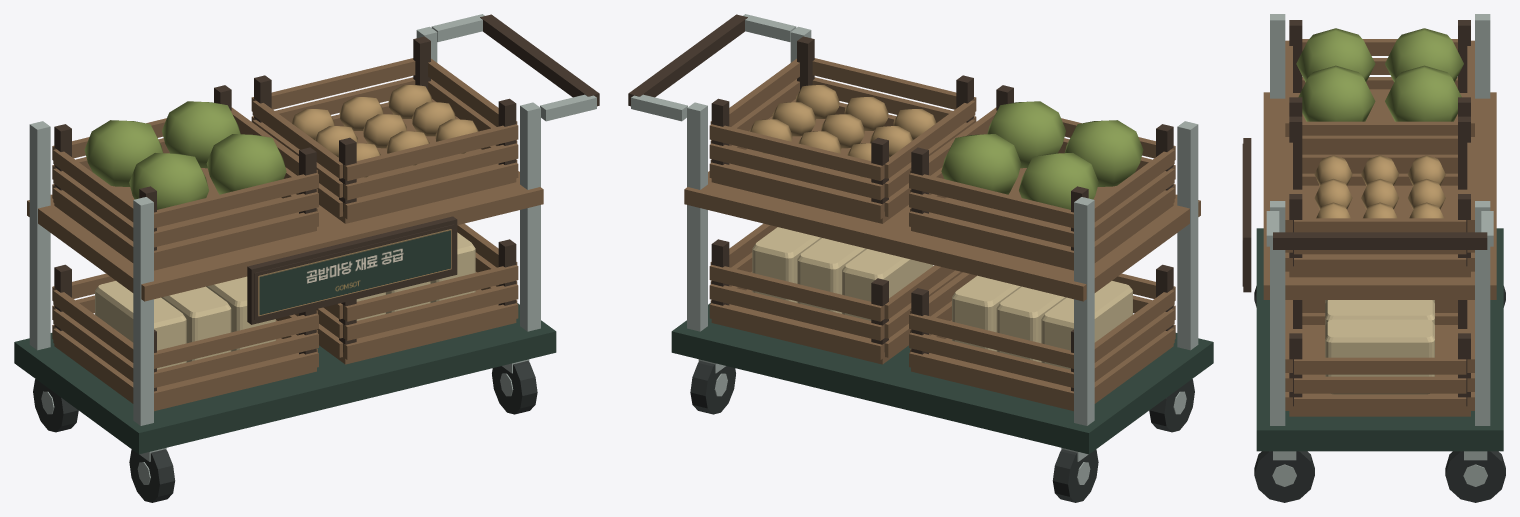
Rendered from 10_Ingredient_Delivery_Cart.fbx.
3 renders of one model, left to right at view 1: azimuth 30°, elevation 25°; view 2: azimuth 150°, elevation 25°; view 3: azimuth 270°, elevation 25°, orthographic.
Visible parts, largest first — view 1: 10_Ingredient_Delivery_Cart, 10_Ingredient_Delivery_Cart__Structure; view 2: 10_Ingredient_Delivery_Cart, 10_Ingredient_Delivery_Cart__Structure; view 3: 10_Ingredient_Delivery_Cart, 10_Ingredient_Delivery_Cart__Structure.
Boxes of the visible parts, <box> form: 10_Ingredient_Delivery_Cart: <box>52,36,518,411</box>; 10_Ingredient_Delivery_Cart__Structure: <box>14,14,599,502</box>; 10_Ingredient_Delivery_Cart: <box>709,36,1175,411</box>; 10_Ingredient_Delivery_Cart__Structure: <box>628,14,1213,502</box>; 10_Ingredient_Delivery_Cart: <box>1285,20,1474,416</box>; 10_Ingredient_Delivery_Cart__Structure: <box>1242,14,1505,502</box>.
Size of the model in its own units: 230 by 149 by 113.
2 materials, 2 textured.
